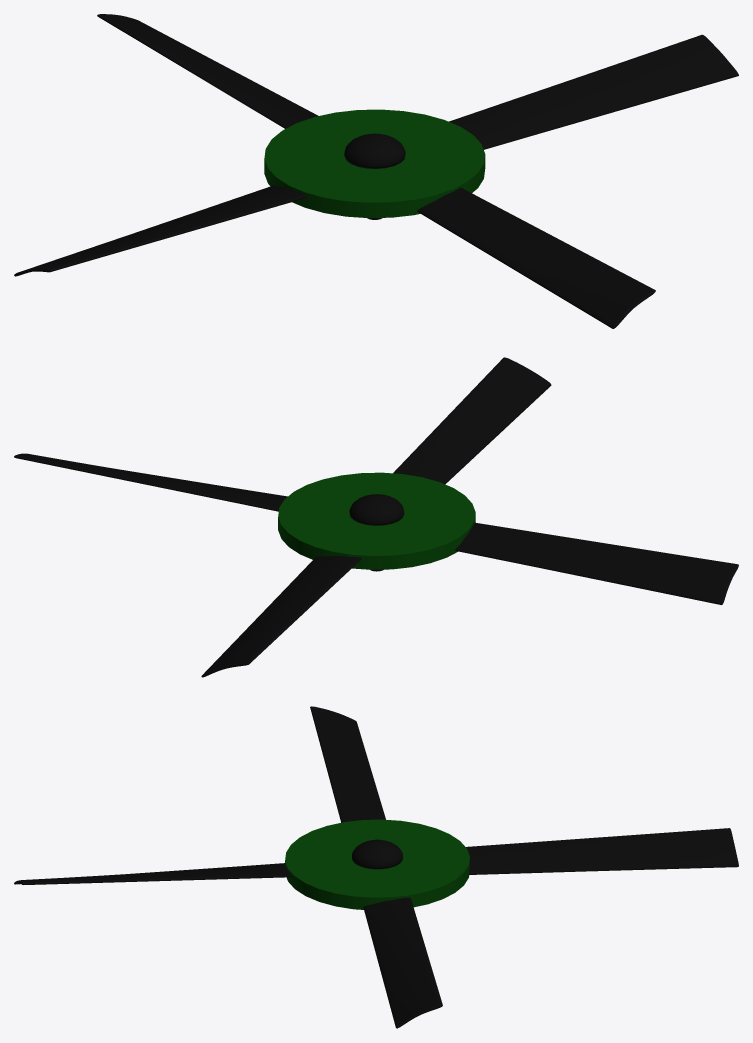
File: camo_propeller.obj
The picture shows the model from 3 angles, top to bottom: view 1: azimuth 30°, elevation 25°; view 2: azimuth 150°, elevation 25°; view 3: azimuth 270°, elevation 25°; orthographic projection. The views are drawn at different scales.
Visible parts, largest first — view 1: polySurface512; view 2: polySurface512; view 3: polySurface512.
Boxes of the visible parts, x1=… form: polySurface512: x1=14, y1=14, x2=738, y2=328; polySurface512: x1=14, y1=357, x2=738, y2=677; polySurface512: x1=14, y1=706, x2=738, y2=1028.
Size of the model in its own units: 28.14 by 2.8 by 28.14.
